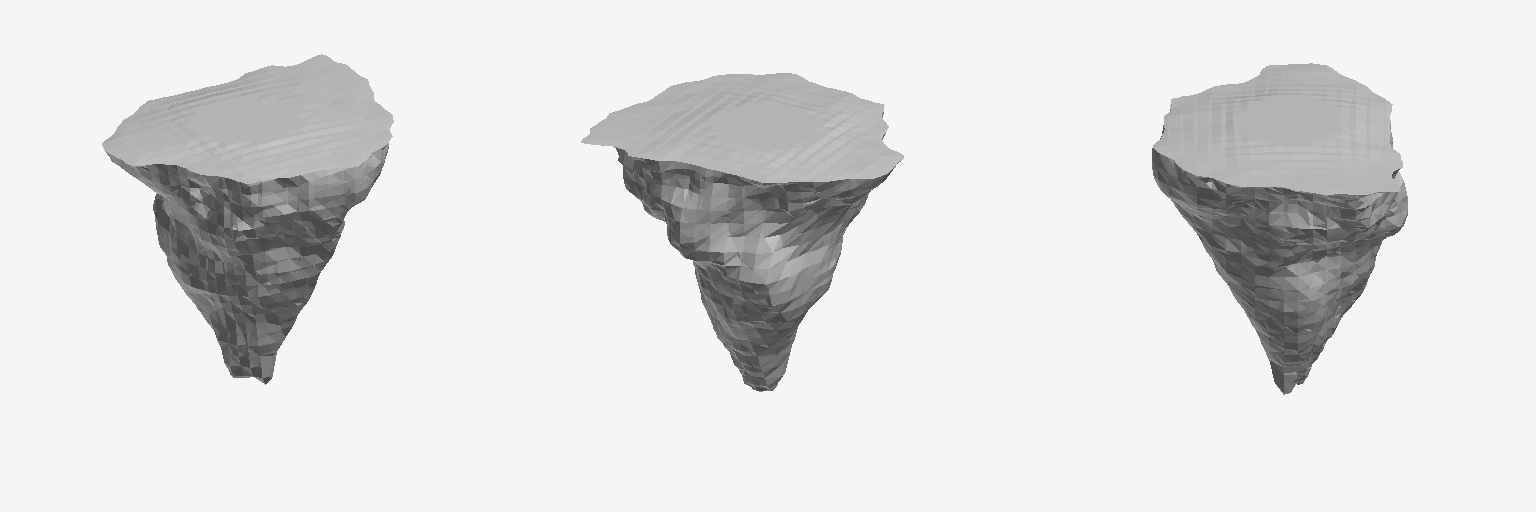
The model's file is IslandMisc_02.obj.
The picture shows the model from 3 angles: view 1: azimuth 30°, elevation 25°; view 2: azimuth 150°, elevation 25°; view 3: azimuth 270°, elevation 25°; orthographic projection.
Parts seen in each view (by area): view 1: Mesh; view 2: Mesh; view 3: Mesh.
Part boxes in pixels (x1,y1,x2,y2): Mesh: (102,54,393,384); Mesh: (581,73,903,391); Mesh: (1152,63,1407,394).
Bounding box in the file's own units: 21.67 × 20.4 × 17.81.